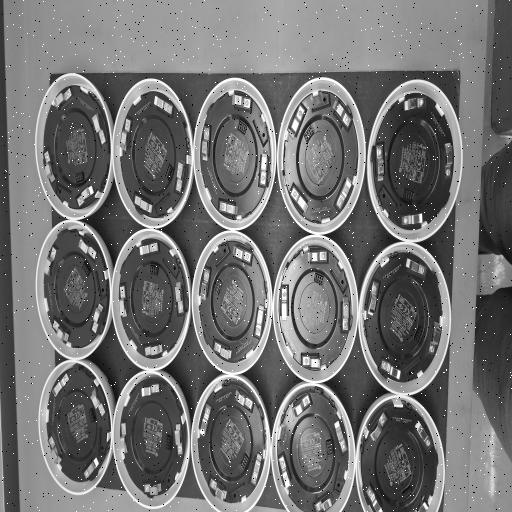yayli: (288, 102, 307, 139), (332, 98, 352, 131), (289, 182, 308, 215), (414, 419, 433, 450), (336, 176, 352, 212), (370, 412, 388, 442), (427, 322, 442, 358), (366, 484, 384, 512), (292, 393, 312, 418), (90, 387, 106, 418), (277, 454, 291, 489), (234, 388, 254, 412), (334, 420, 348, 454), (52, 371, 70, 397), (367, 280, 380, 316), (92, 113, 106, 146), (380, 358, 401, 380), (90, 302, 104, 334), (77, 184, 95, 208), (254, 304, 266, 340), (79, 237, 97, 261), (44, 246, 58, 276), (406, 257, 426, 278), (43, 152, 56, 184), (198, 404, 211, 436), (250, 454, 263, 486), (374, 142, 384, 183), (199, 266, 211, 300), (154, 95, 173, 116), (53, 88, 71, 110), (258, 153, 269, 189), (48, 436, 62, 464), (209, 477, 226, 500), (120, 119, 131, 154), (233, 245, 252, 265), (218, 199, 238, 218), (232, 92, 251, 112), (301, 352, 322, 370), (444, 143, 454, 180), (84, 456, 99, 480), (214, 341, 232, 361), (314, 494, 334, 512), (52, 320, 69, 341), (404, 96, 426, 112), (201, 126, 211, 161), (134, 195, 152, 214), (174, 160, 184, 194), (341, 297, 350, 333), (280, 284, 289, 320), (139, 241, 159, 257), (308, 247, 328, 263), (401, 213, 423, 227), (175, 281, 184, 315), (120, 422, 129, 454), (119, 285, 128, 317), (141, 383, 160, 398), (144, 344, 162, 358), (143, 482, 161, 496), (175, 424, 183, 455)
